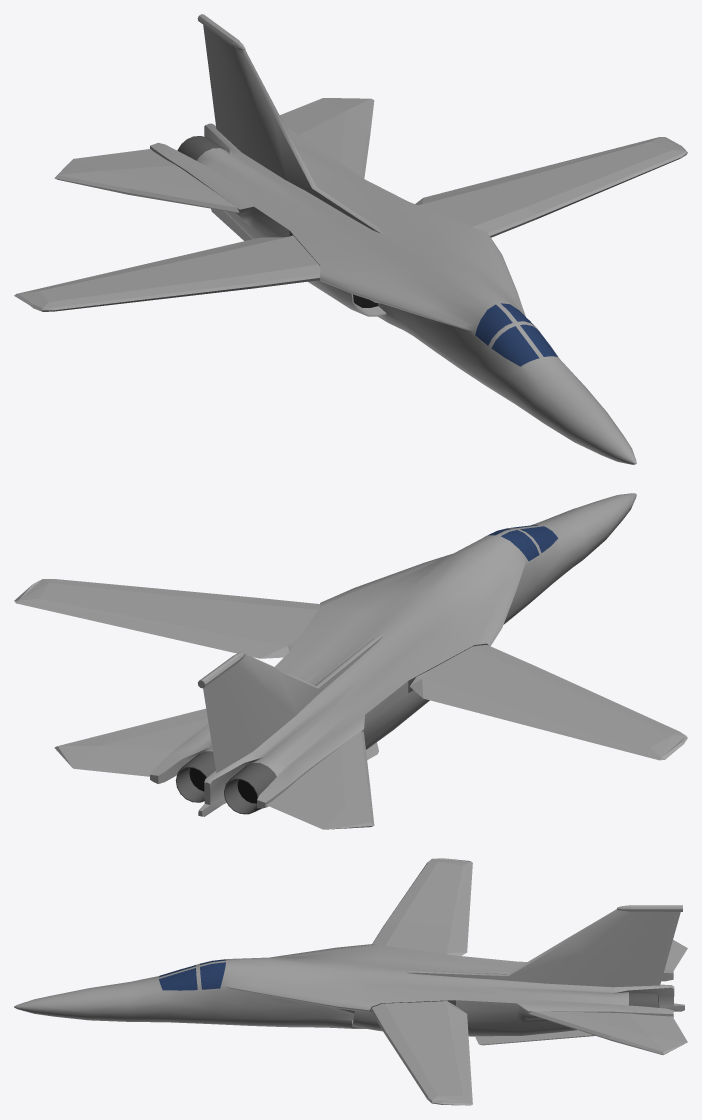
The model's file is F_111_AARDVARK.glb.
3 views of the same model, one above another, from view 1: azimuth 30°, elevation 25°; view 2: azimuth 150°, elevation 25°; view 3: azimuth 270°, elevation 25° (orthographic). The views are drawn at different scales.
Visible parts, largest first — view 1: f_111_aardvark_fuselage; view 2: f_111_aardvark_fuselage; view 3: f_111_aardvark_fuselage.
Part boxes in pixels (x1,y1,x2,y2): f_111_aardvark_fuselage: [14, 14, 687, 464]; f_111_aardvark_fuselage: [14, 493, 687, 829]; f_111_aardvark_fuselage: [14, 858, 687, 1105].
Bounding box in the file's own units: 19.26 × 4.57 × 22.4.
